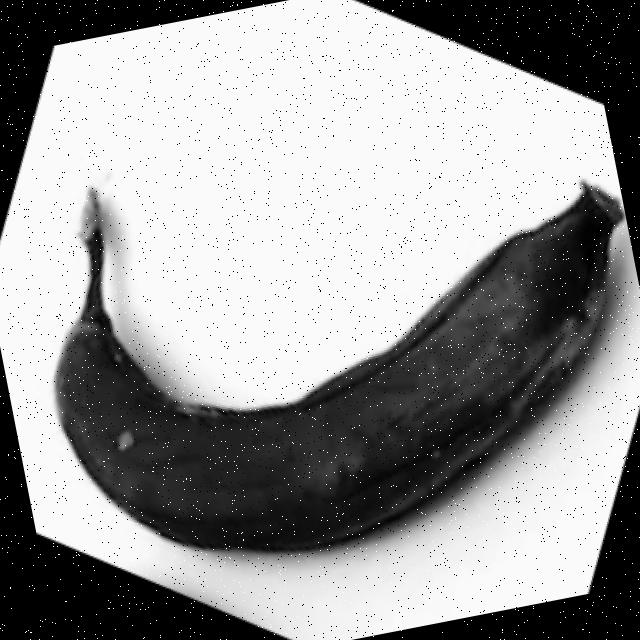Rotten: (13, 90, 640, 599)
